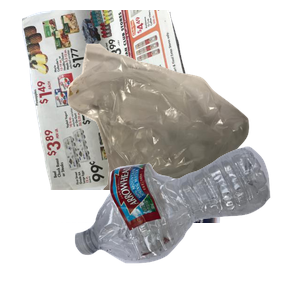glass: (29, 120, 242, 300)
paper: (19, 10, 223, 190)
plastic: (72, 144, 300, 300)
trash: (65, 41, 300, 221)
